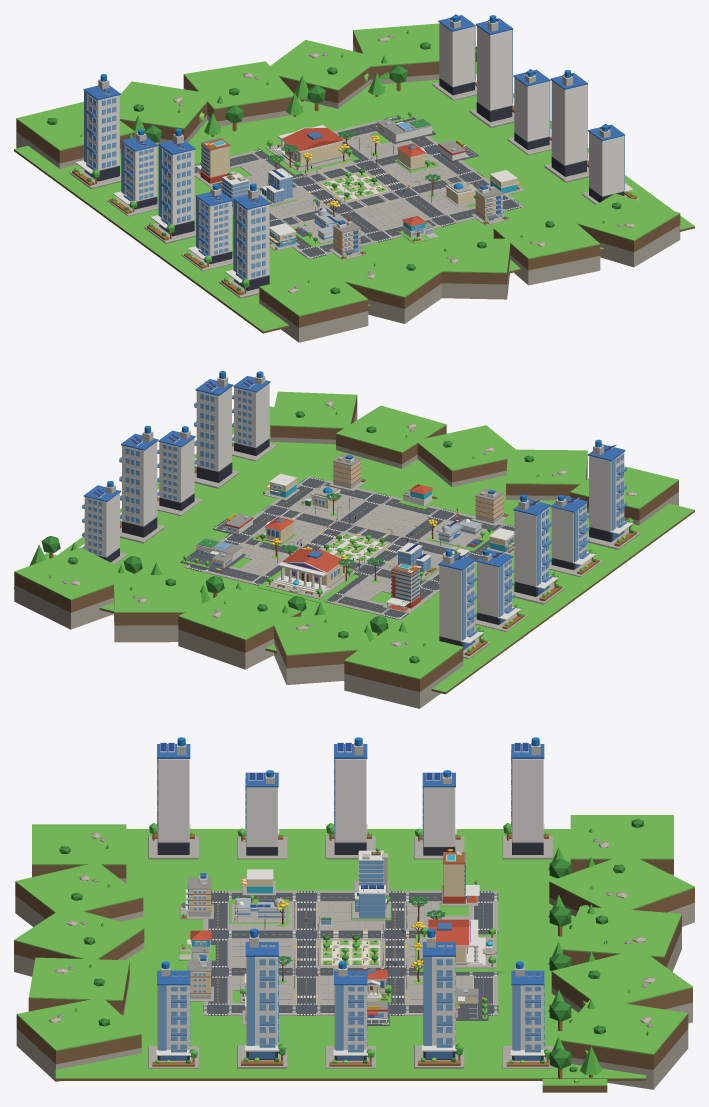
Rendered from town.glb.
3 renders of one model, top to bottom at view 1: azimuth 30°, elevation 25°; view 2: azimuth 150°, elevation 25°; view 3: azimuth 270°, elevation 25°, orthographic. The views are drawn at different scales.
Visible parts, largest first — view 1: bg_mountain_s_0, bg_mountain_s_3, bg_mountain_s_4, bg_mountain_s_1, bg_mountain_n_2, bg_mountain_s_2, bg_mountain_n_3, bg_mountain_n_4, bg_skyscraper_w_2, bg_skyscraper_e_3, bg_skyscraper_w_0, bg_skyscraper_w_4 (+25 smaller); view 2: bg_mountain_n_0, bg_mountain_n_2, bg_mountain_n_4, bg_mountain_n_1, bg_mountain_n_3, bg_mountain_s_3, bg_mountain_s_2, bg_mountain_s_4, bg_skyscraper_e_1, bg_skyscraper_e_3, bg_skyscraper_w_2, bg_skyscraper_w_4 (+22 smaller); view 3: bg_mountain_n_4, bg_mountain_s_4, bg_mountain_n_1, bg_mountain_n_3, bg_mountain_s_1, bg_mountain_n_2, bg_mountain_s_2, bg_mountain_n_0, bg_skyscraper_e_1, bg_skyscraper_e_3, bg_mountain_s_3, bg_mountain_s_0 (+23 smaller).
Boxes of the visible parts, x1,y1,x2,y2 form: bg_mountain_s_0: [259, 270, 368, 342]; bg_mountain_s_3: [493, 213, 600, 285]; bg_mountain_s_4: [572, 193, 680, 267]; bg_mountain_s_1: [337, 250, 443, 323]; bg_mountain_n_2: [183, 61, 293, 126]; bg_mountain_s_2: [427, 237, 510, 299]; bg_mountain_n_3: [265, 40, 380, 108]; bg_mountain_n_4: [353, 23, 439, 84]; bg_skyscraper_w_2: [144, 128, 195, 243]; bg_skyscraper_e_3: [544, 70, 588, 182]; bg_skyscraper_w_0: [69, 74, 121, 188]; bg_skyscraper_w_4: [219, 183, 270, 298]; bg_mountain_n_0: [344, 628, 463, 708]; bg_mountain_n_2: [178, 587, 301, 669]; bg_mountain_n_4: [14, 547, 136, 629]; bg_mountain_n_1: [271, 612, 372, 684]; bg_mountain_n_3: [114, 575, 201, 642]; bg_mountain_s_3: [336, 405, 446, 468]; bg_mountain_s_2: [416, 425, 521, 486]; bg_mountain_s_4: [270, 391, 357, 444]; bg_skyscraper_e_1: [119, 425, 164, 543]; bg_skyscraper_e_3: [194, 371, 239, 488]; bg_skyscraper_w_2: [512, 494, 564, 604]; bg_skyscraper_w_4: [587, 439, 639, 549]; bg_mountain_n_4: [556, 998, 688, 1089]; bg_mountain_s_4: [16, 999, 141, 1081]; bg_mountain_n_1: [549, 853, 694, 926]; bg_mountain_n_3: [551, 949, 692, 1023]; bg_mountain_s_1: [15, 864, 143, 926]; bg_mountain_n_2: [562, 906, 681, 971]; bg_mountain_s_2: [14, 906, 144, 976]; bg_mountain_n_0: [570, 815, 673, 875]; bg_skyscraper_e_1: [414, 928, 464, 1068]; bg_skyscraper_e_3: [237, 928, 287, 1068]; bg_mountain_s_3: [28, 957, 129, 1016]; bg_mountain_s_0: [32, 824, 126, 883].
Bounding box in the file's own units: 164 × 40.91 × 185.
